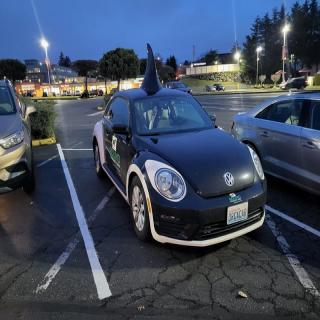license: (228, 202, 250, 226)
